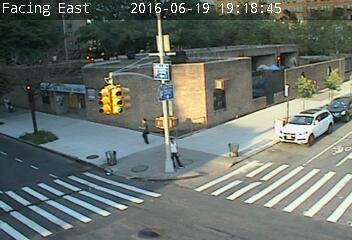neg: (57, 176, 77, 203), (135, 188, 153, 212), (250, 157, 267, 180), (20, 170, 37, 193), (284, 76, 300, 98), (222, 139, 238, 160), (195, 169, 211, 190), (48, 127, 63, 147), (99, 148, 114, 167), (209, 20, 223, 40), (235, 96, 249, 115), (107, 45, 121, 63), (67, 27, 79, 44), (189, 58, 201, 75), (18, 131, 30, 147), (271, 34, 283, 49), (209, 98, 220, 114), (121, 20, 132, 34), (79, 71, 89, 85), (162, 18, 172, 31), (297, 166, 307, 178), (284, 122, 293, 134)
pos: (159, 134, 185, 168), (133, 114, 157, 145), (1, 94, 14, 111)
